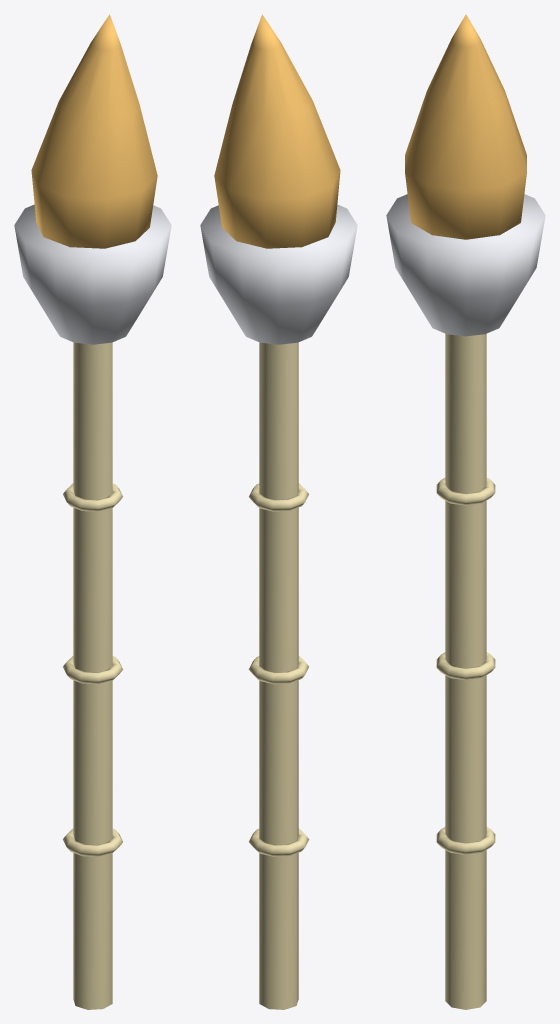
The model's file is BumperTikiTorch.glb.
3 views of the same model, side by side, from view 1: azimuth 30°, elevation 25°; view 2: azimuth 150°, elevation 25°; view 3: azimuth 270°, elevation 25° (orthographic).
Parts seen in each view (by area): view 1: Bamboo, Flame, Bowl; view 2: Bamboo, Flame, Bowl; view 3: Bamboo, Flame, Bowl.
Part boxes in pixels (x1,y1,x2,y2): Bamboo: (62,342,123,1009); Flame: (31,14,157,248); Bowl: (14,204,171,344); Bamboo: (248,342,309,1009); Flame: (214,14,340,248); Bowl: (200,204,357,344); Bamboo: (436,334,495,1009); Flame: (405,14,526,239); Bowl: (386,194,545,336).
Size of the model in its own units: 1.24 by 8.55 by 1.24.
